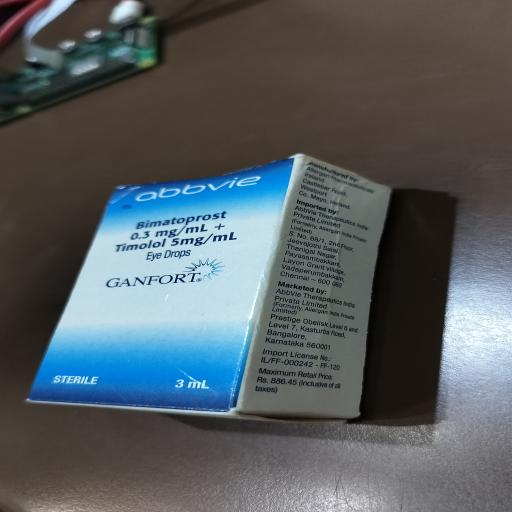eye-drops: (110, 208, 252, 260), (126, 172, 272, 202)
medicine: (41, 157, 379, 427)
